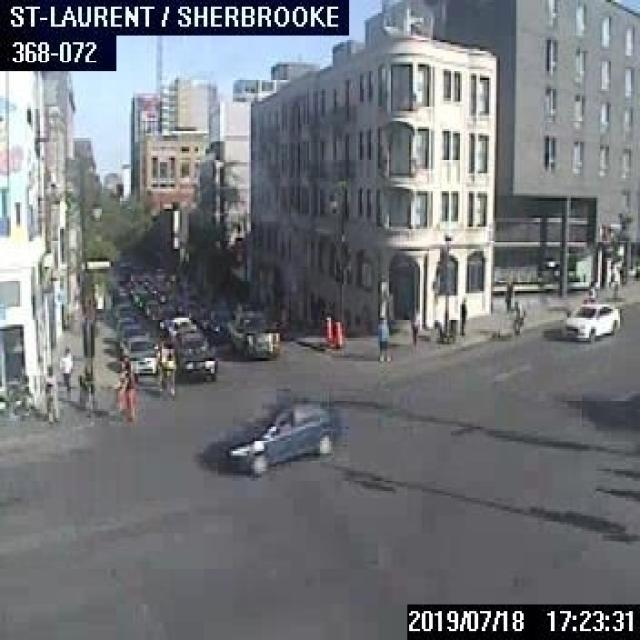construction: (322, 313, 332, 342), (332, 319, 342, 347)
cyclist: (76, 357, 98, 412), (158, 340, 175, 397), (509, 300, 524, 336)
pedestrian: (40, 362, 56, 422), (120, 361, 135, 416), (58, 344, 72, 394), (375, 313, 389, 360), (504, 271, 512, 311), (458, 294, 466, 334), (586, 278, 596, 302)
vehicle: (216, 394, 336, 474), (564, 298, 620, 338), (173, 331, 216, 379), (230, 314, 280, 355), (120, 333, 157, 374), (0, 374, 29, 414), (206, 305, 233, 340), (166, 314, 192, 340), (119, 321, 147, 339), (156, 310, 177, 334)
